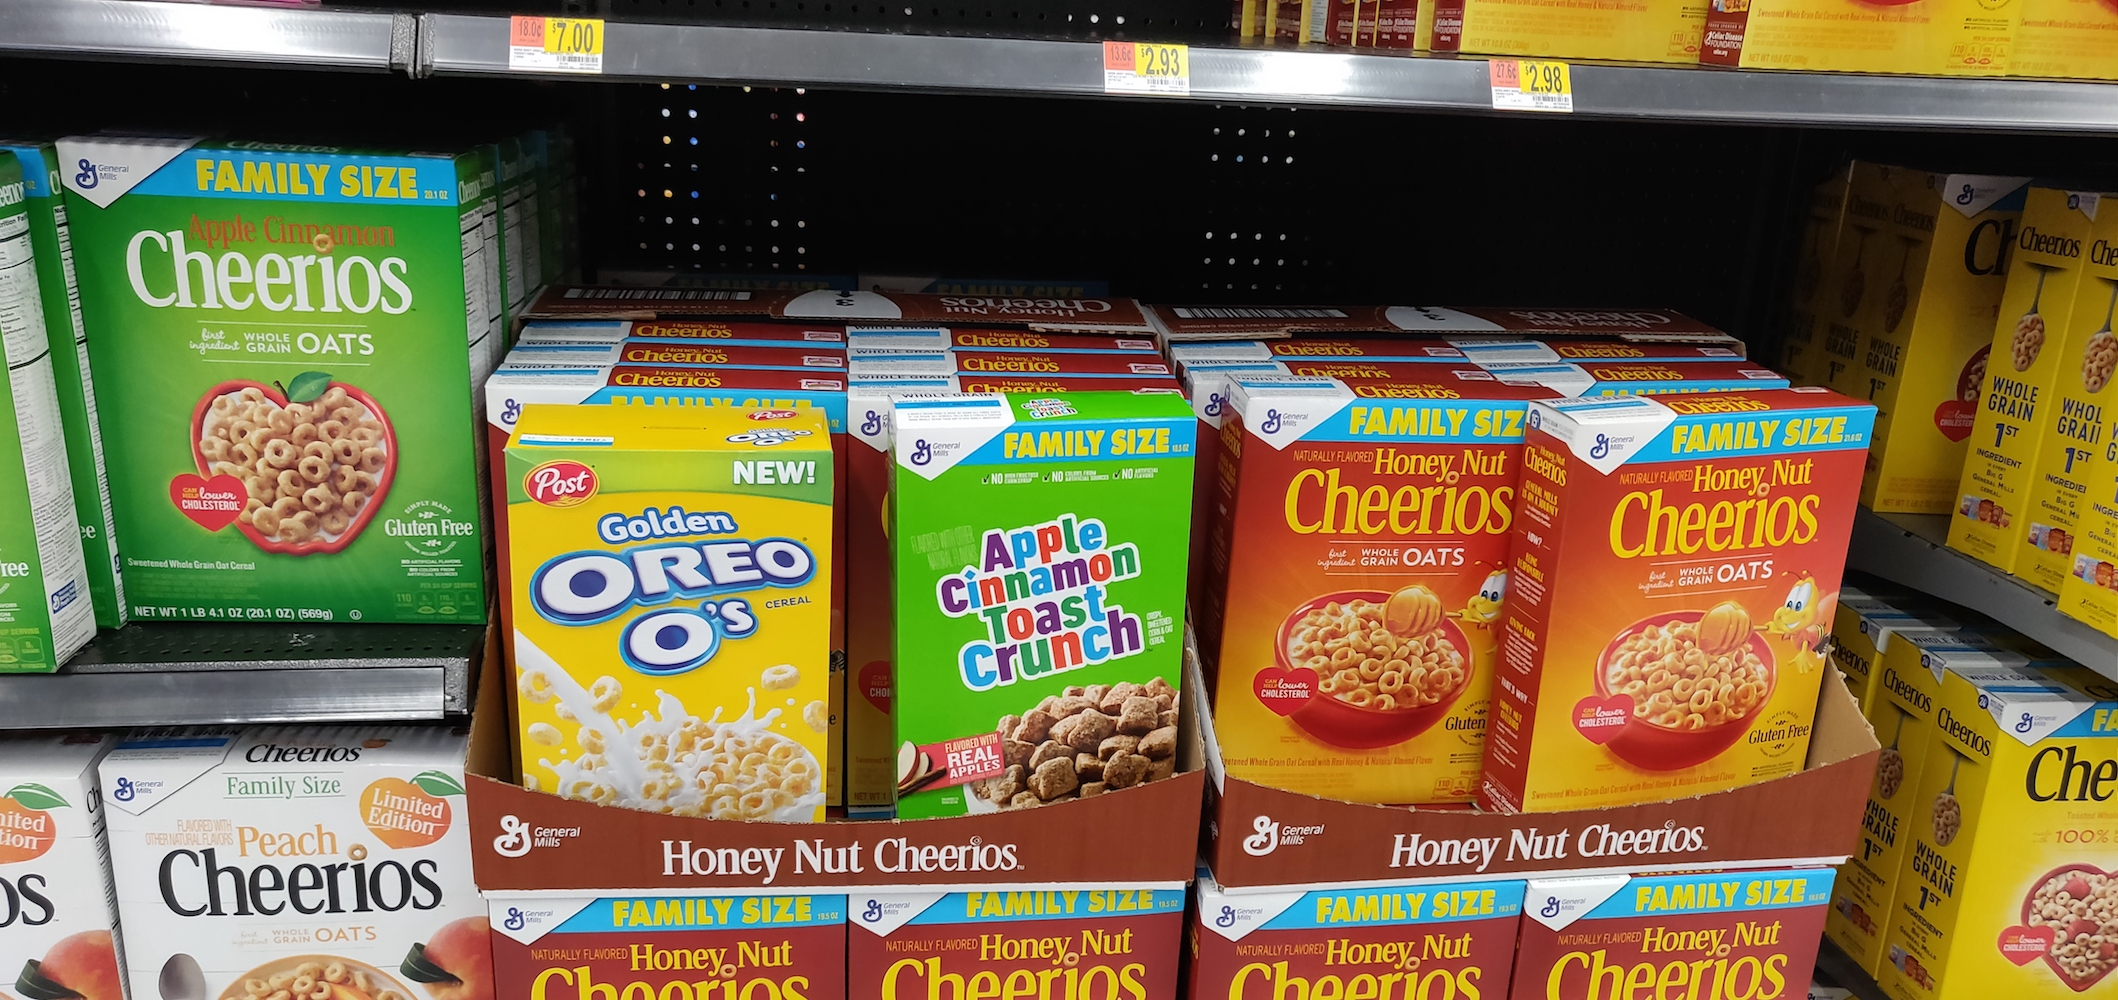Oreo Golden-568301011: (511, 446, 829, 811)
